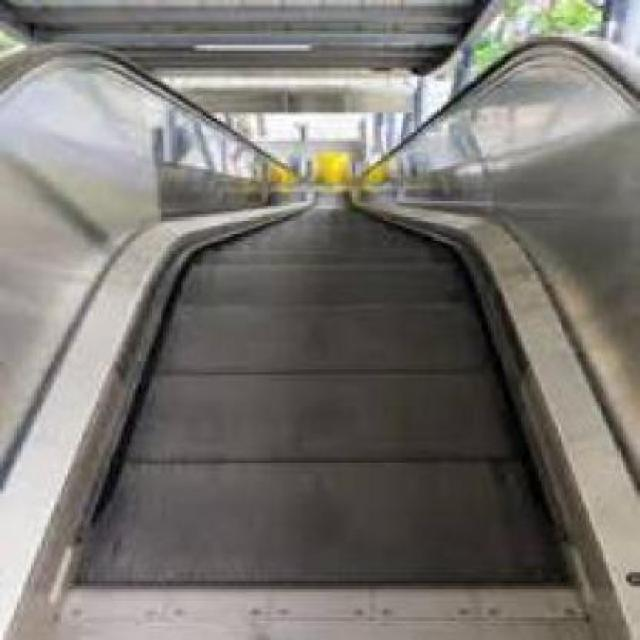stair: (62, 395, 558, 612)
